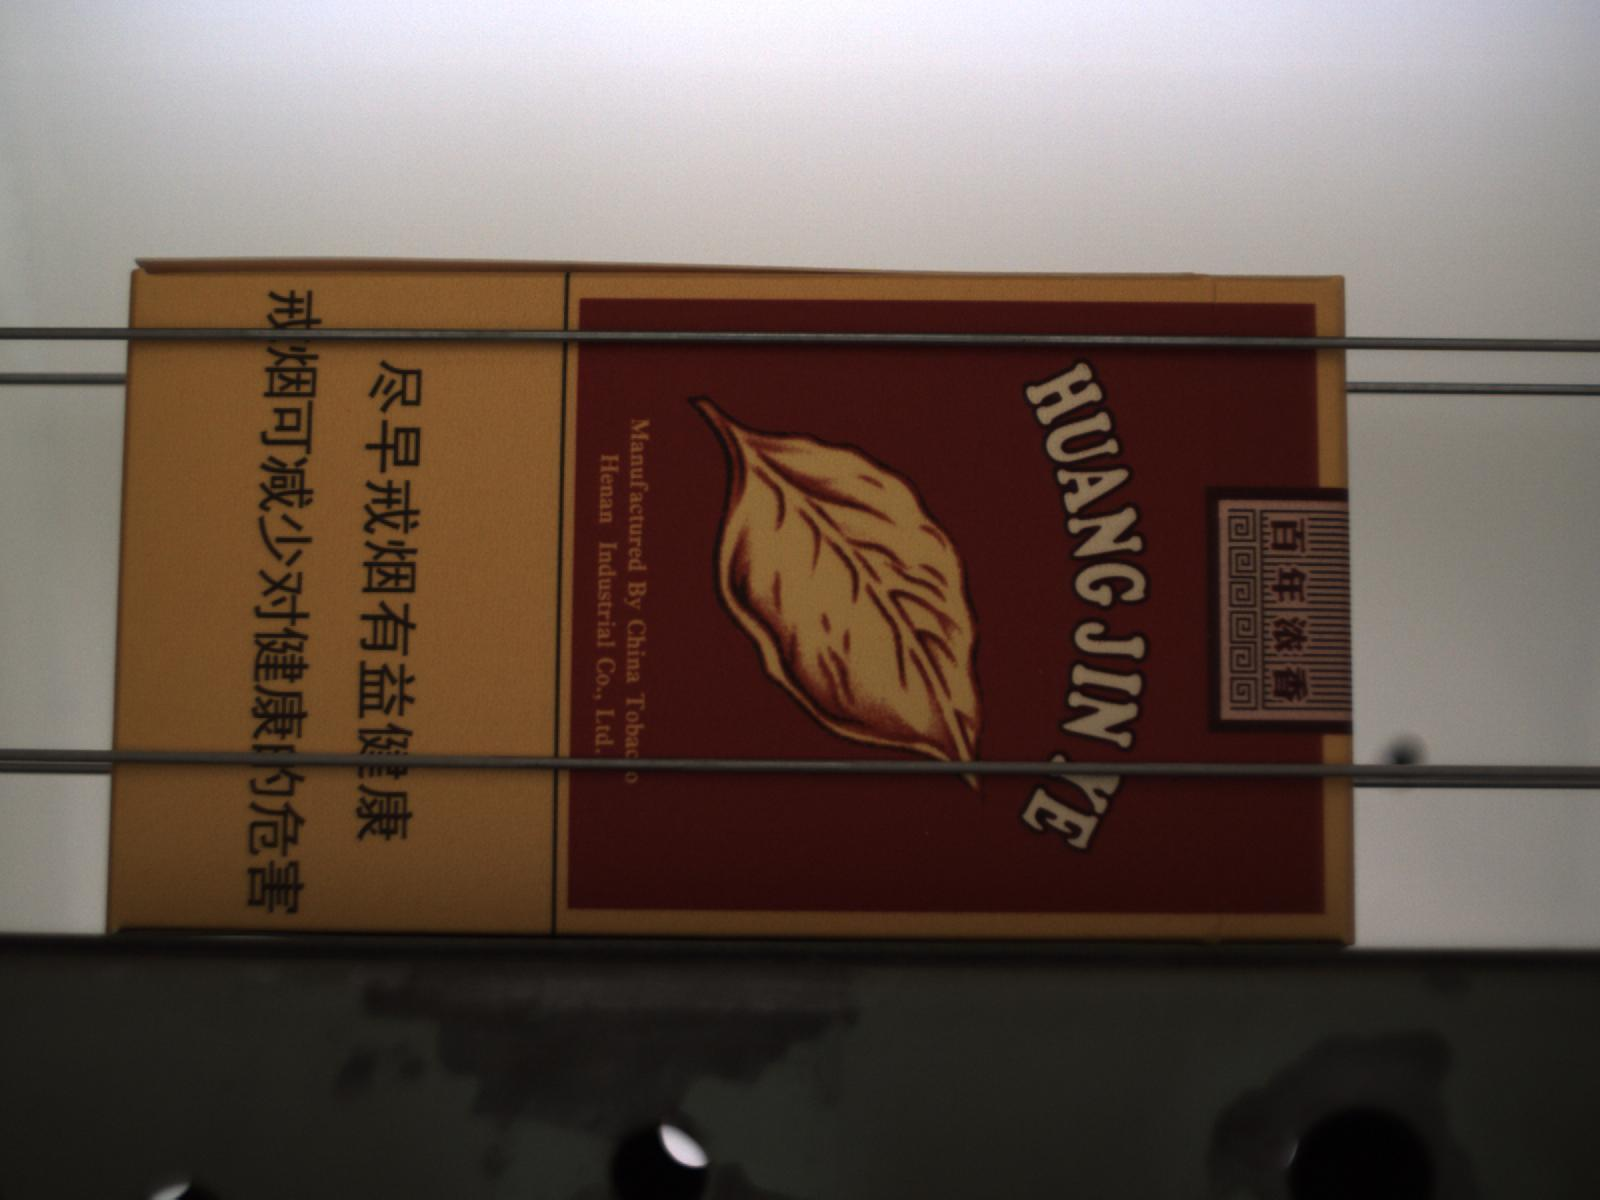bottomUpwarp_upper_1: (130, 256, 891, 280)
dirtyPrint: (1036, 667, 1044, 676), (923, 828, 931, 836)
